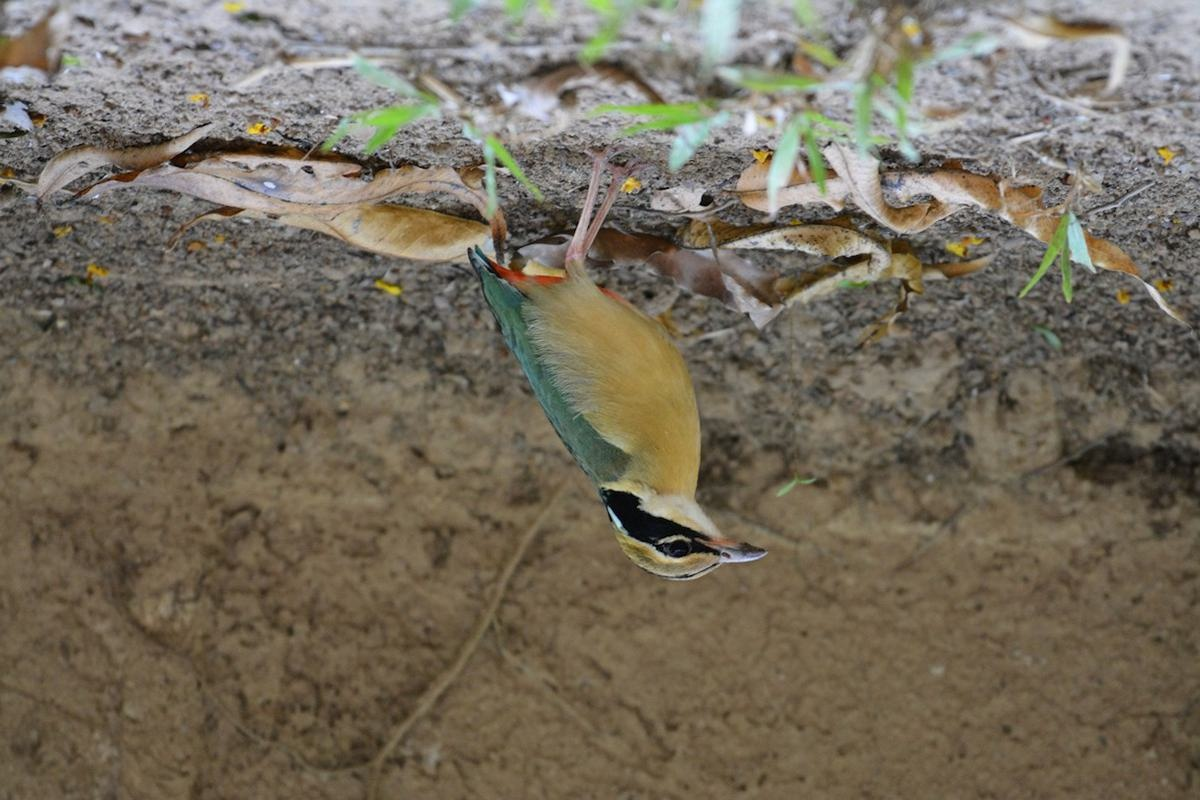pitta: (467, 191, 776, 587)
